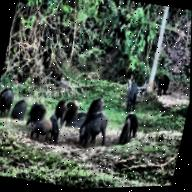boar: (72, 105, 112, 153), (24, 109, 55, 146), (0, 75, 19, 125), (46, 106, 66, 147), (121, 70, 142, 108), (8, 90, 32, 121), (153, 70, 176, 98), (25, 99, 48, 127), (61, 96, 79, 131), (83, 90, 107, 114), (117, 111, 133, 147), (123, 105, 142, 134), (52, 90, 68, 124)
